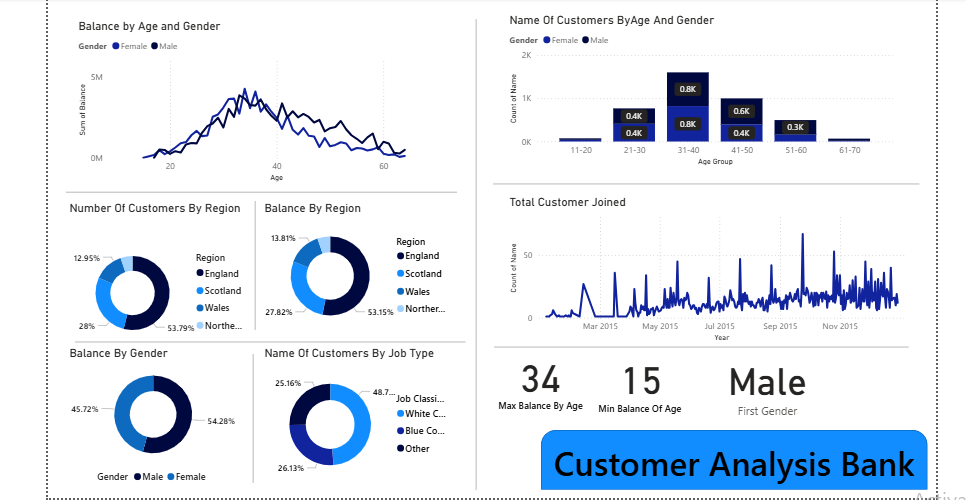

What the dashboard file says about the page in this screenshot:
{"tool":"powerbi","page":{"name":"Page 1","canvas":[1280,720],"ordinal":0},"visuals":[{"type":"lineChart","title":" Balance by Age and Gender","fields":{"Series":["Bank Data Analysis.Gender"],"Category":["Bank Data Analysis.Age"],"Y":["Sum(Bank Data Analysis.Balance)"]},"box":[38.8,30.4,536.3,239.5],"z":0},{"type":"columnChart","title":"Name Of Customers ByAge And Gender","fields":{"Y":["CountNonNull(Bank Data Analysis.Name)"],"Category":["Bank Data Analysis.Age Group"],"Series":["Bank Data Analysis.Gender"]},"box":[659.4,21.9,561.6,224.3],"z":1000},{"type":"donutChart","title":"Number Of Customers By Region","fields":{"Y":["CountNonNull(Bank Data Analysis.Name)"],"Category":["Bank Data Analysis.Region"]},"box":[25.3,291.8,269.8,246.2],"z":2000},{"type":"donutChart","title":"Balance By Region ","fields":{"Y":["Sum(Bank Data Analysis.Balance)"],"Category":["Bank Data Analysis.Region"]},"box":[306.9,291.8,281.6,197.3],"z":3000},{"type":"donutChart","title":"Name Of Customers By Job Type ","fields":{"Y":["CountNonNull(Bank Data Analysis.Name)"],"Category":["Bank Data Analysis.Job Classification"]},"box":[306.9,500.9,281.6,207.4],"z":4000},{"type":"donutChart","title":"Balance By Gender","fields":{"Y":["Sum(Bank Data Analysis.Balance)"],"Category":["Bank Data Analysis.Gender"]},"box":[25.3,500.9,251.3,207.4],"z":5000},{"type":"lineChart","title":"Total Customer Joined","fields":{"Y":["CountNonNull(Bank Data Analysis.Name)"],"Category":["Bank Data Analysis.Date Joined.Variation.Date Hierarchy.Year","Bank Data Analysis.Date Joined.Variation.Date Hierarchy.Quarter","Bank Data Analysis.Date Joined.Variation.Date Hierarchy.Month","Bank Data Analysis.Date Joined.Variation.Date Hierarchy.Day"]},"box":[659.4,283.3,595.3,215.9],"z":6000},{"type":"card","title":"Max Balance By Age ","fields":{"Values":["Max(Bank Data Analysis.Age)"]},"box":[639.2,494.1,140,111.3],"z":7000},{"type":"card","fields":{"Values":["Sum(Bank Data Analysis.Age)"]},"box":[779.1,500.9,150.1,104.6],"z":8000},{"type":"card","fields":{"Values":["Min(Bank Data Analysis.Gender)"]},"box":[957.9,500.9,156.8,109.6],"z":9000},{"type":"shape","box":[575.1,30.4,84.3,677.9],"z":10000},{"type":"shape","box":[640.8,42.2,613.9,452],"z":11000},{"type":"shape","box":[642.5,477.3,597,52.3],"z":12000},{"type":"shape","box":[38.8,460.4,563.3,69.1],"z":13000},{"type":"shape","box":[25.3,246.2,563.3,67.5],"z":14000},{"type":"shape","title":" ","box":[710,622.3,556.5,86],"z":15000},{"type":"shape","box":[276.6,291.8,43.8,185.5],"z":16000},{"type":"shape","box":[273.2,512.7,43.8,185.5],"z":17000}]}

Visuals, with their boxes on the page's 1280x720 design canvas (x1, y1, x2, y2). These are canvas units, not pixel positions in the 966x500 screenshot, which may show the page scaled, cropped or inside an application window:
" Balance by Age and Gender" lineChart: 39, 30, 575, 270
"Name Of Customers ByAge And Gender" columnChart: 659, 22, 1221, 246
"Number Of Customers By Region" donutChart: 25, 292, 295, 538
"Balance By Region " donutChart: 307, 292, 588, 489
"Name Of Customers By Job Type " donutChart: 307, 501, 588, 708
"Balance By Gender" donutChart: 25, 501, 277, 708
"Total Customer Joined" lineChart: 659, 283, 1255, 499
"Max Balance By Age " card: 639, 494, 779, 605
card - Sum(Bank Data Analysis.Age): 779, 501, 929, 606
card - Min(Bank Data Analysis.Gender): 958, 501, 1115, 610
shape: 575, 30, 659, 708
shape: 641, 42, 1255, 494
shape: 642, 477, 1240, 530
shape: 39, 460, 602, 530
shape: 25, 246, 589, 314
" " shape: 710, 622, 1266, 708
shape: 277, 292, 320, 477
shape: 273, 513, 317, 698
